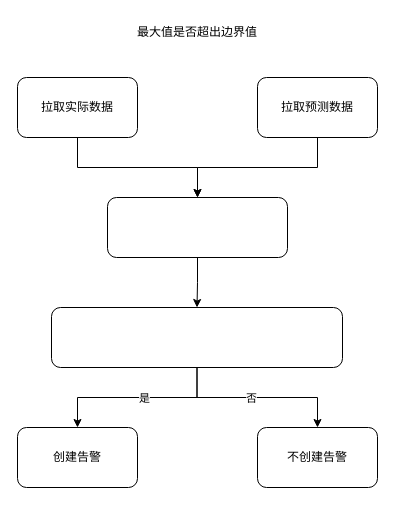
The diagram is 395 pixels wide and 505 high, and some of its shapes have lost their labels. The centre of each missing label's shape, as x and y in pixels:
currentMax > upperMax || currentMax < lowerMin?: point 196,337
依据max从实际数据里取出最大值currentMax，预测数据取出upperMax、lowerMin: point 197,227
